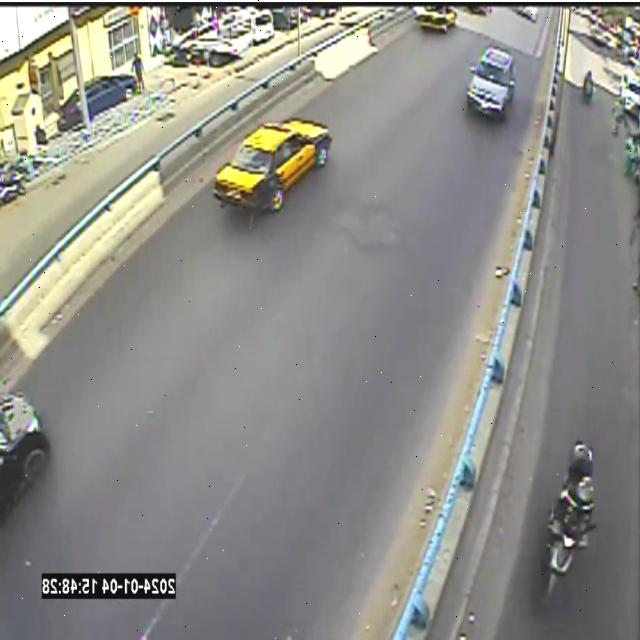car: (214, 118, 333, 213), (1, 394, 50, 507), (467, 45, 515, 119), (415, 5, 457, 33)
